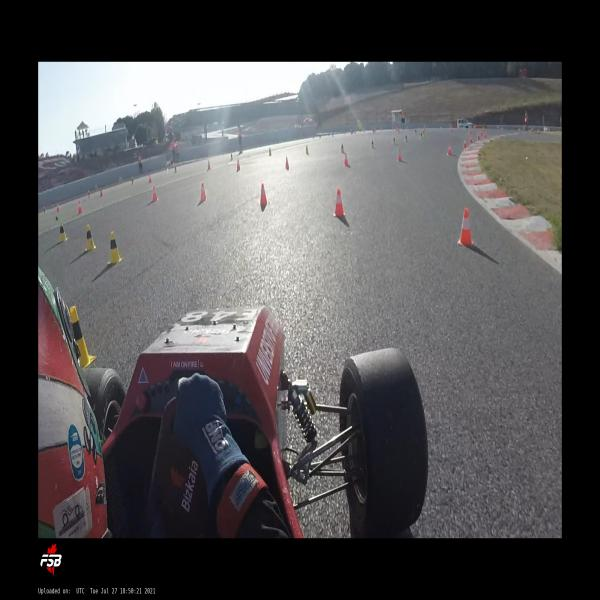orange_cone: (458, 208, 474, 246), (333, 188, 346, 217), (259, 182, 268, 206), (200, 182, 208, 202), (152, 185, 158, 202), (77, 200, 83, 214), (284, 157, 290, 169), (447, 142, 452, 156), (397, 149, 402, 162), (344, 153, 349, 166), (236, 159, 241, 171), (207, 160, 211, 170), (468, 134, 472, 144), (463, 139, 467, 148), (56, 203, 60, 212), (149, 174, 152, 183), (100, 189, 103, 197), (477, 133, 480, 140), (450, 125, 452, 132), (480, 132, 483, 136), (484, 133, 486, 138), (469, 130, 471, 134), (424, 127, 426, 131)
yellow_cone: (69, 306, 97, 370), (107, 231, 123, 265), (85, 224, 97, 251), (59, 220, 68, 242), (305, 145, 309, 155), (43, 205, 47, 214), (392, 136, 396, 144), (341, 143, 344, 153), (174, 166, 178, 173), (230, 152, 233, 161), (269, 148, 272, 157), (405, 135, 408, 143), (371, 140, 374, 148), (131, 177, 134, 185), (88, 191, 91, 199), (420, 132, 423, 140), (415, 129, 417, 136), (423, 131, 425, 137), (398, 128, 399, 134)
